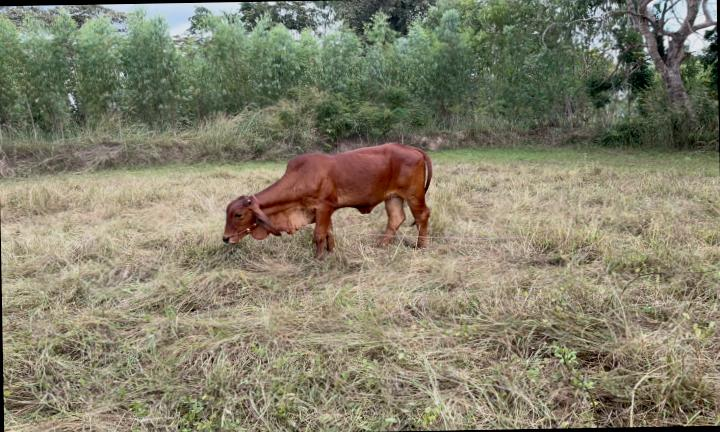Brahman: (222, 143, 431, 257)
